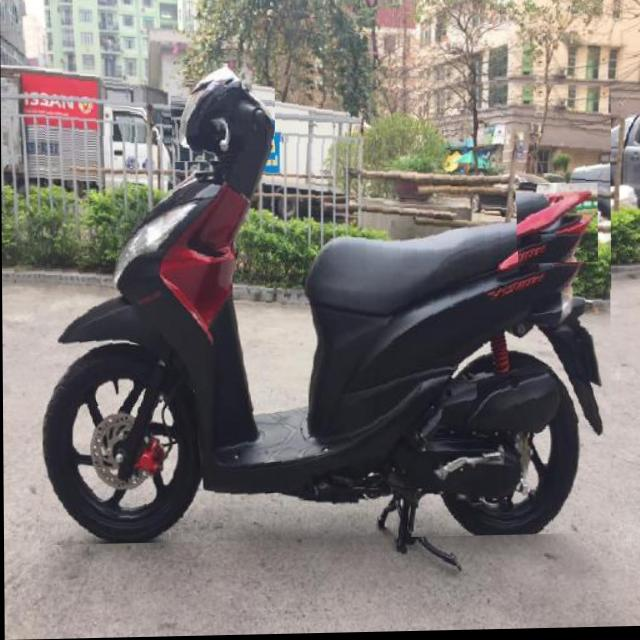All: (36, 55, 613, 546)
Head: (169, 65, 275, 163)
Tail: (515, 183, 598, 266)
